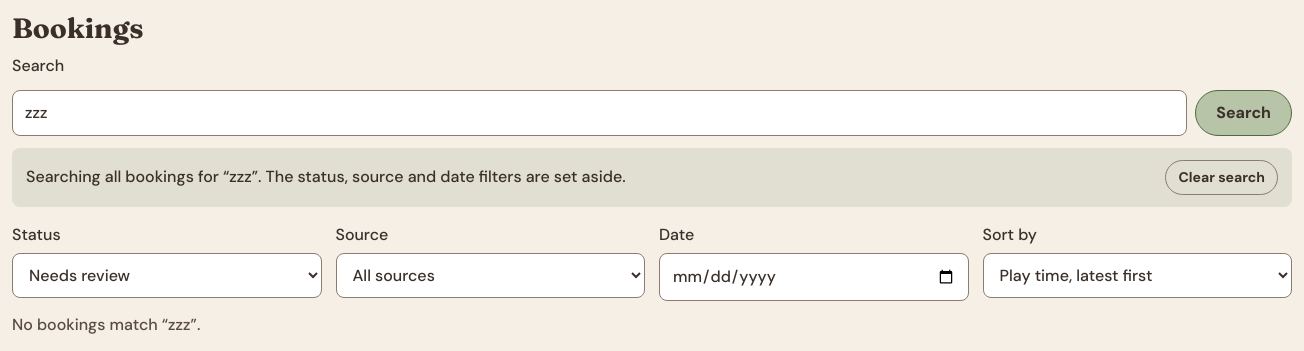
it: AdminBookingsPage search › says when nothing matches, and Clear goes back to the filters
Expected: the text "No bookings match “zzz”." is shown, [12, 314, 200, 335]
Click the button "Clear search" at (1222, 177), box [1165, 160, 1278, 195]
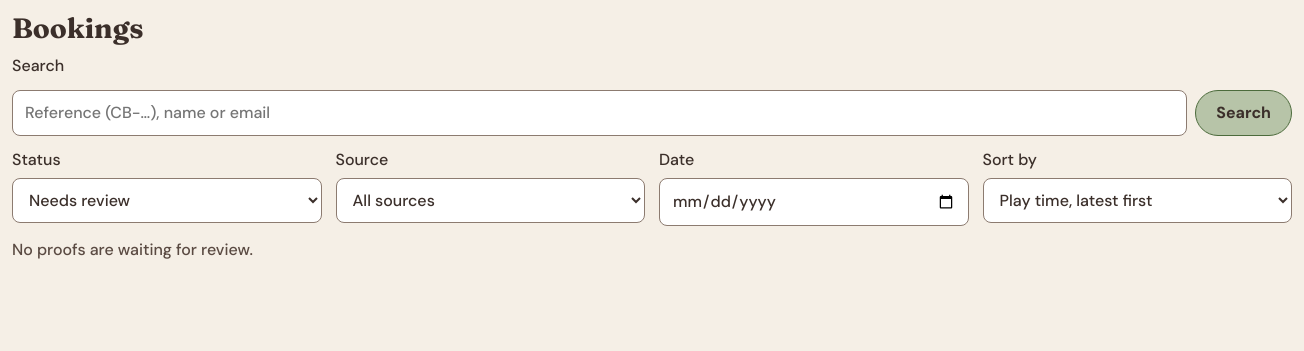
Expected: the text "Searching all bookings" is gone
Expected: the text "No proofs are waiting for review." is shown, [12, 239, 253, 260]
